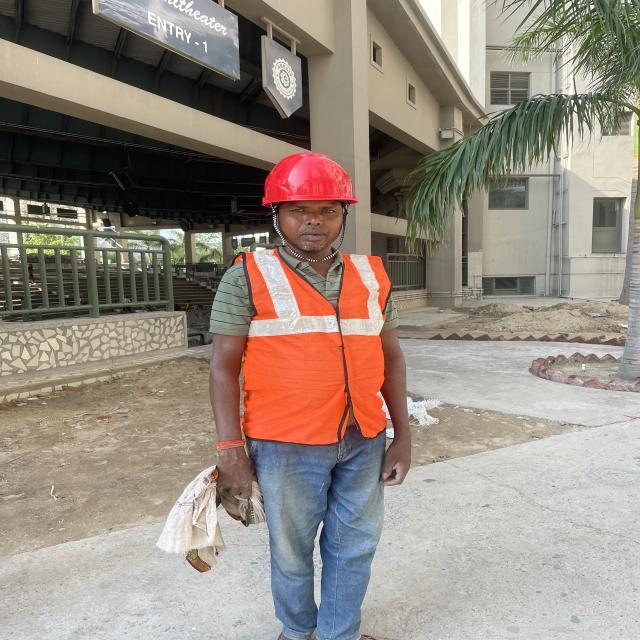safe: (211, 153, 410, 640)
